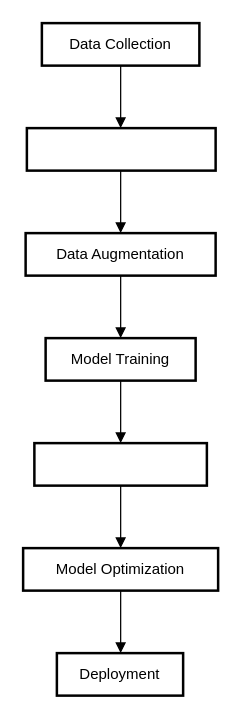
Image size: 240x718. Some labels were removed from this diagram. Each missing label, with the box of its shape:
Data Preprocessing: (25, 126, 216, 171)
Model Evaluation: (32, 441, 208, 486)
